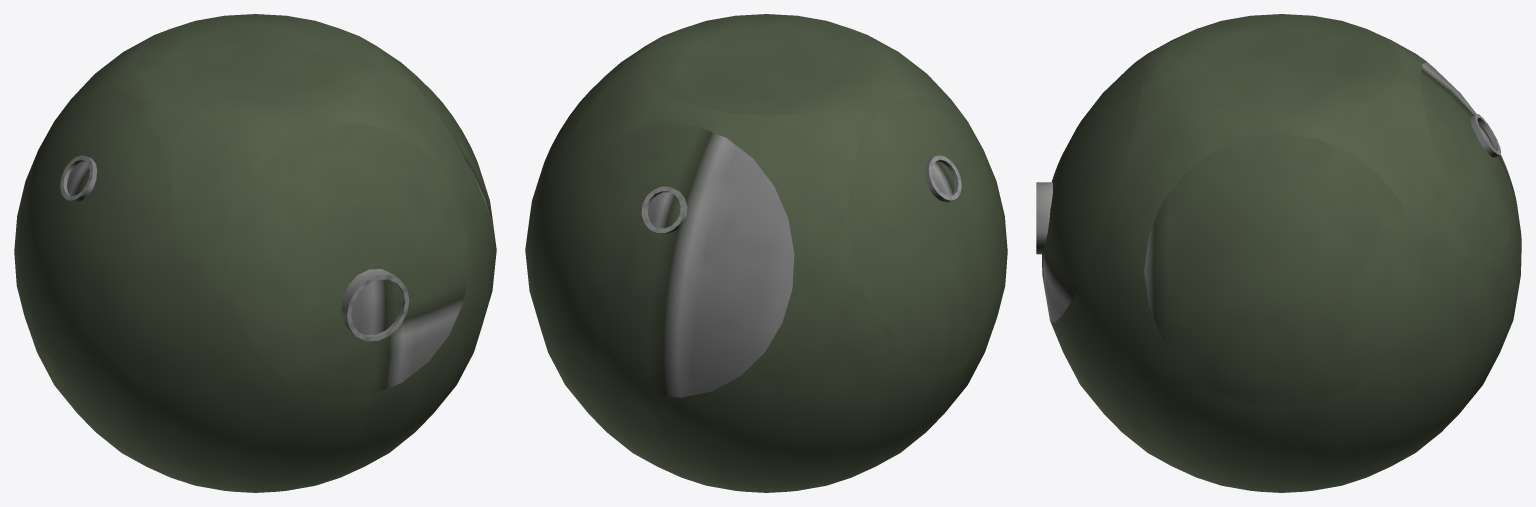
Rendered from vostok_flat_top.obj.
3 renders of one model, left to right at view 1: azimuth 30°, elevation 25°; view 2: azimuth 150°, elevation 25°; view 3: azimuth 270°, elevation 25°, orthographic.
Parts seen in each view (by area): view 1: 1, w1; view 2: 1, w1; view 3: 1.
Part boxes in pixels (x1,y1,x2,y2): 1: (14,14,496,492); w1: (67,161,402,335); 1: (525,14,1007,492); w1: (648,161,954,228); 1: (1036,14,1521,492).
Size of the model in its own units: 1.25 by 1.18 by 1.26.
